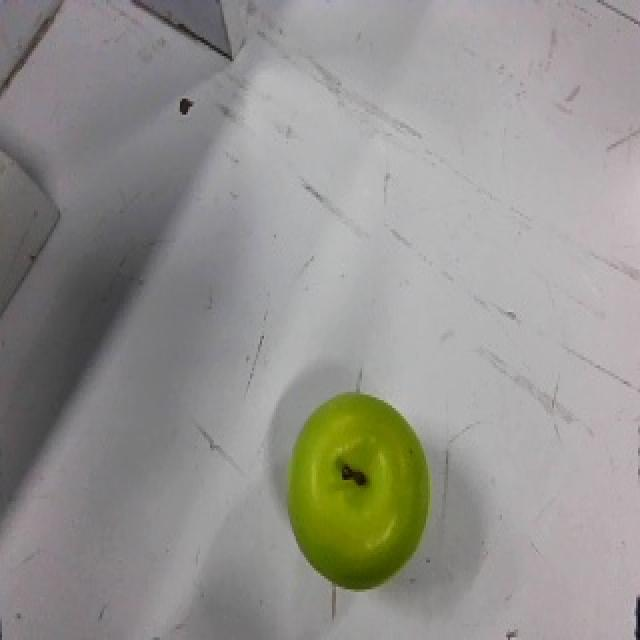apple: (286, 390, 432, 591)
